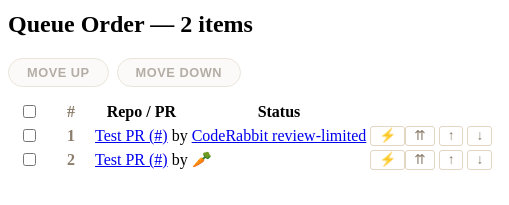
Test: QueueOrder › move actions › shows error message when response data is not an array
Click the button named "Move up" at (451, 136), box [439, 126, 463, 146]
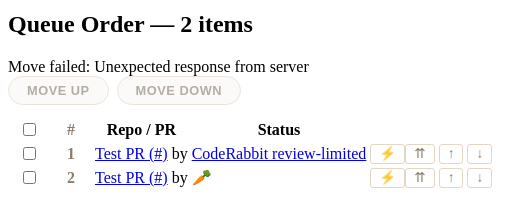
Expected: the text "Move failed: Unexpected response from server" is shown, [8, 58, 309, 75]
